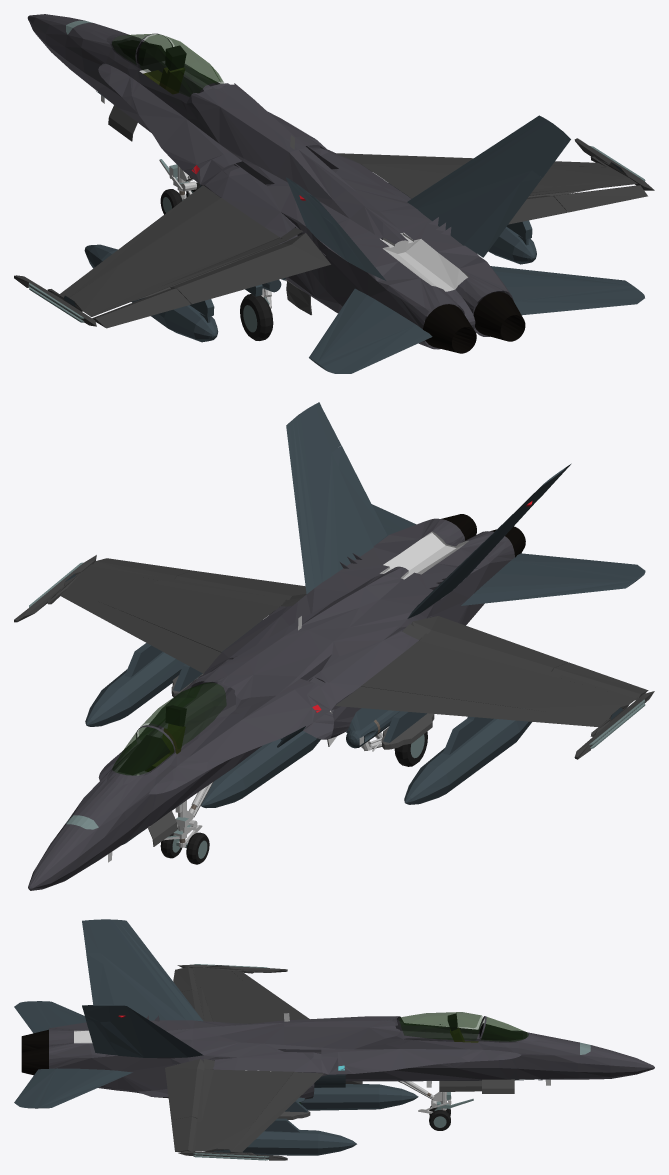
The model's file is snowflake.obj.
The picture shows the model from 3 angles, top to bottom: view 1: azimuth 30°, elevation 25°; view 2: azimuth 150°, elevation 25°; view 3: azimuth 270°, elevation 25°; orthographic projection. The views are drawn at different scales.
Size of the model in its own units: 0.705 by 0.2841 by 1.01.
